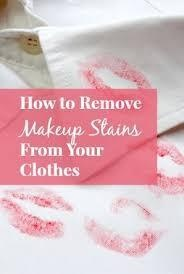lipstick: (82, 213, 168, 264), (3, 187, 72, 241), (91, 53, 154, 89), (104, 198, 160, 233), (157, 140, 183, 168), (79, 73, 116, 92), (161, 175, 184, 196)
